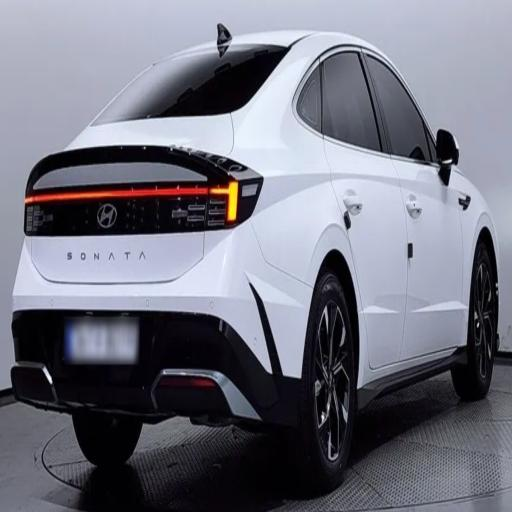normal: (12, 22, 506, 472)
